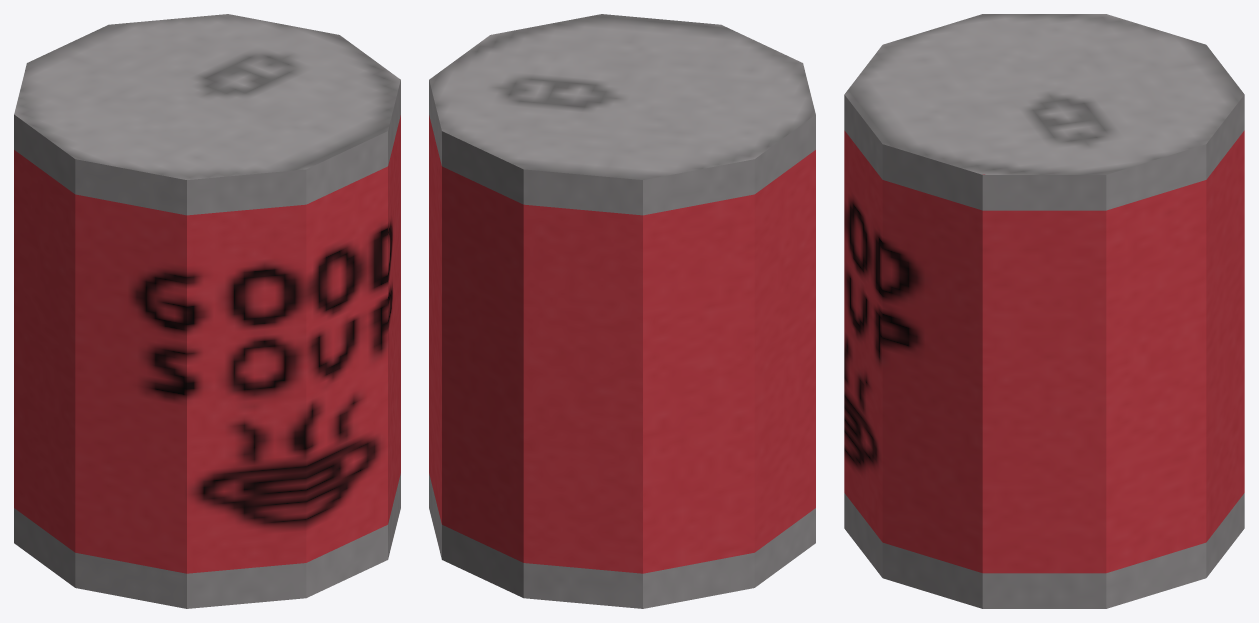
File: SoupCan 1.fbx
3 renders of one model, left to right at view 1: azimuth 30°, elevation 25°; view 2: azimuth 150°, elevation 25°; view 3: azimuth 270°, elevation 25°, orthographic.
Visible parts, largest first — view 1: soup_can_and_will; view 2: soup_can_and_will; view 3: soup_can_and_will.
Part boxes in pixels (<box>): soup_can_and_will: <box>14,14,400,608</box>; soup_can_and_will: <box>429,14,815,608</box>; soup_can_and_will: <box>844,14,1244,608</box>.
Bounding box in the file's own units: 8.71 × 10.96 × 9.15.
1 material, 1 textured.
